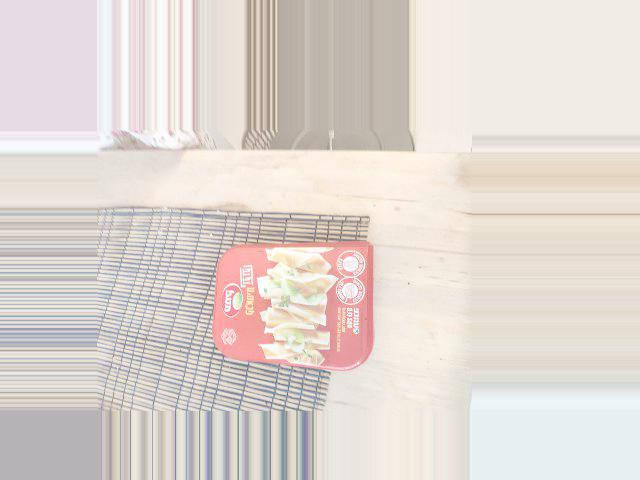cheese: (147, 250, 282, 419)
